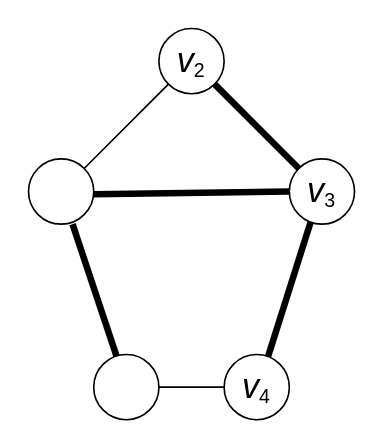
The diagram is 383 pixels wide and 448 high, and some of its shapes have lost their labels. Each missing label, with the centre of its shape:
"v 1" goes at point 60,190.
"v 5" goes at point 125,386.
